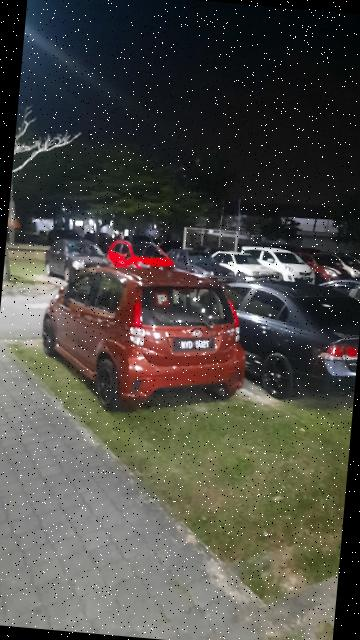License_Plate: (173, 335, 221, 357)
car: (35, 257, 255, 423), (209, 274, 360, 406)
